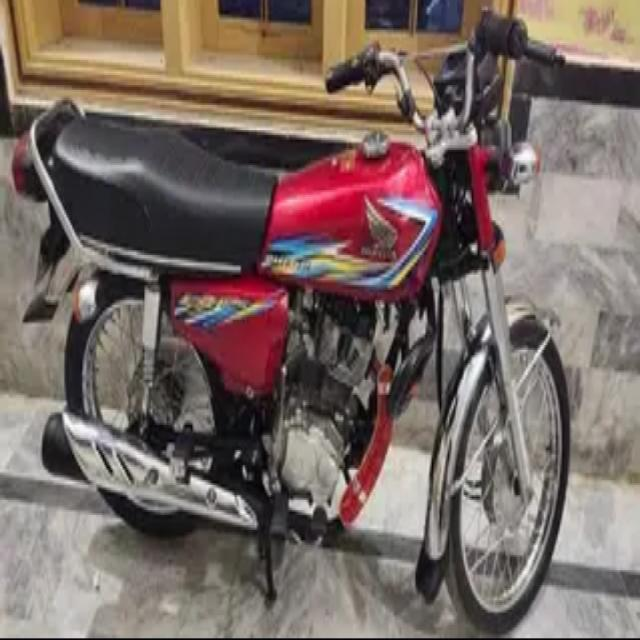Bike: (4, 14, 582, 614)
